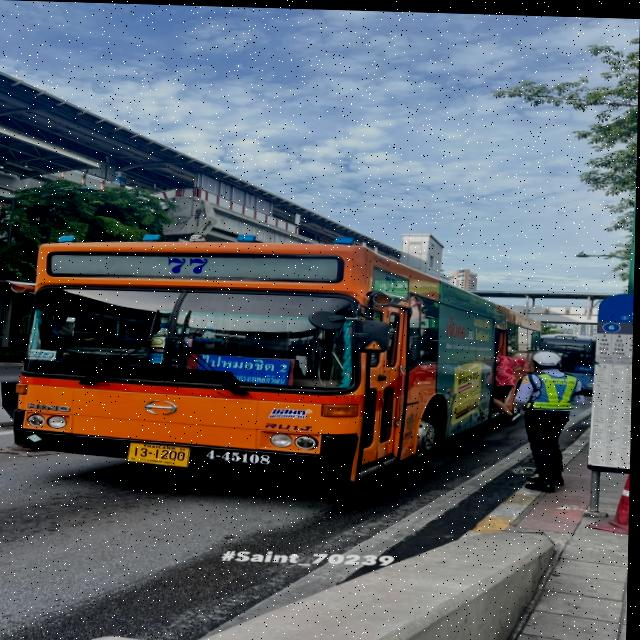BMTA-bus: (16, 240, 542, 481)
Bus Line Number: (151, 252, 226, 275)
Bus Side Number: (201, 445, 282, 468)
Destination Sign: (191, 350, 296, 387)
